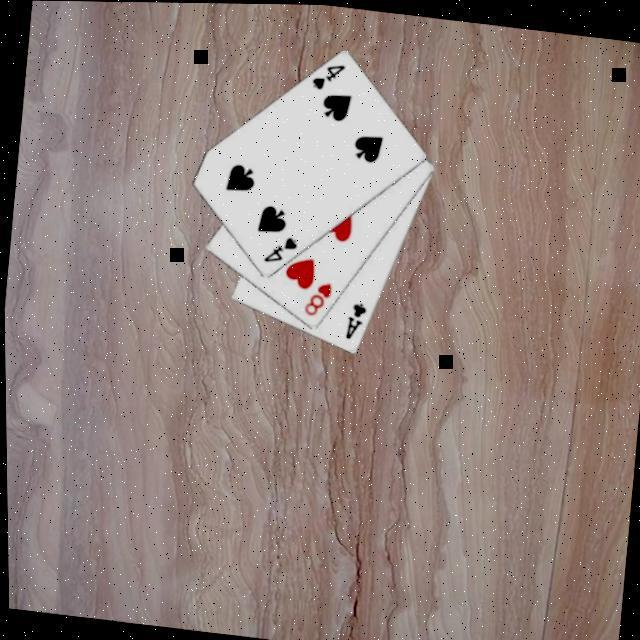4S: (306, 58, 347, 96), (258, 231, 298, 268)
8H: (297, 277, 333, 320)
AC: (339, 298, 368, 342)
